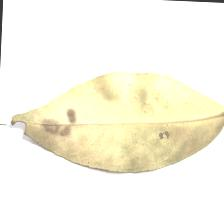black spot: (3, 104, 176, 161)
